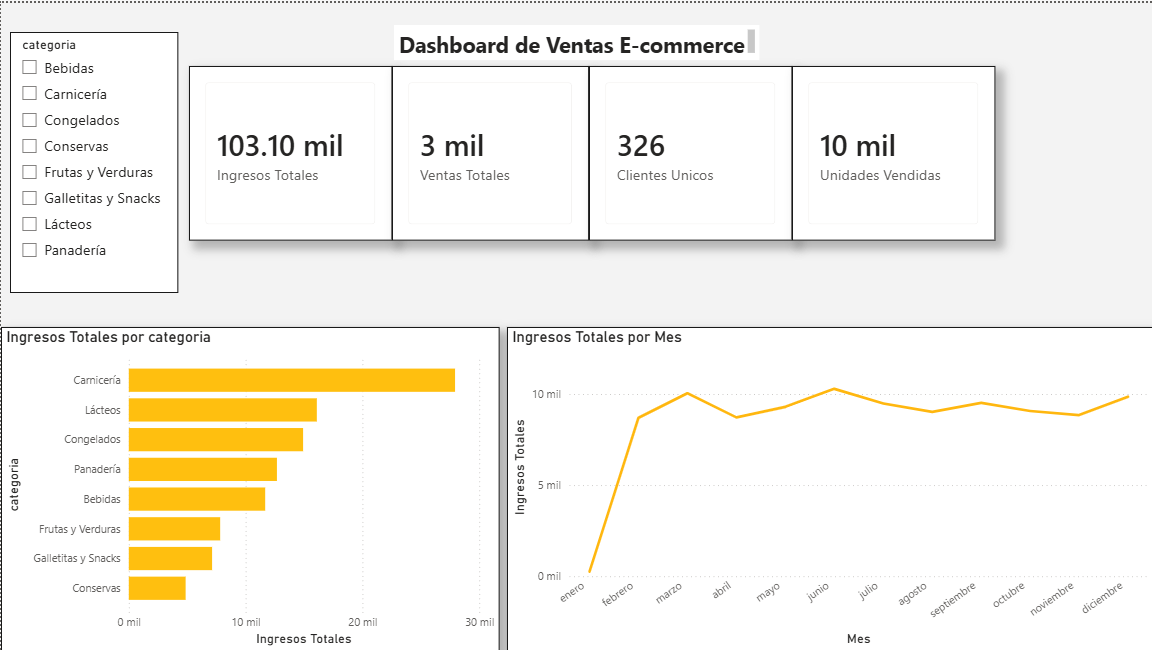

Layout of this report page (visuals, bound fields, positions):
{"tool":"powerbi","page":{"name":"Página 1","canvas":[1280,720],"ordinal":0},"visuals":[{"type":"cardVisual","fields":{"Data":["KPI.Ingresos Totales"]},"box":[208.9,70,225.6,194.4],"z":0},{"type":"cardVisual","fields":{"Data":["KPI.Total Ventas"]},"box":[434.4,70,218.9,194.4],"z":1000},{"type":"cardVisual","fields":{"Data":["KPI.Total Clientes"]},"box":[653.3,70,225.6,194.4],"z":2000},{"type":"barChart","fields":{"Category":["public categorias_productos.categoria"],"Y":["KPI.Ingresos Totales"]},"box":[0,360,554.4,360],"z":3000},{"type":"lineChart","fields":{"Category":["public ventas.fecha.Variación.Jerarquía de fechas.Mes"],"Y":["KPI.Ingresos Totales"]},"box":[562.2,360,717.8,360],"z":4000},{"type":"textbox","box":[436.7,24.4,405.6,38.9],"z":5000},{"type":"cardVisual","fields":{"Data":["KPI.Unidades Vendidas"]},"box":[878.9,70,225.6,194.4],"z":6000},{"type":"slicer","fields":{"Values":["public categorias_productos.categoria"]},"box":[10,32.2,186.7,290],"z":7000}]}

Visuals, with their boxes in screenshot pixels (x1, y1, x2, y2), scaled from the page's 1280x720 canvas onto the 1152x650 screenshot:
cardVisual - KPI.Ingresos Totales: select_region(188, 63, 391, 239)
cardVisual - KPI.Total Ventas: select_region(391, 63, 588, 239)
cardVisual - KPI.Total Clientes: select_region(588, 63, 791, 239)
barChart - public categorias_productos.categoria x KPI.Ingresos Totales: select_region(0, 325, 499, 649)
lineChart - public ventas.fecha.Variación.Jerarquía de fechas.Mes x KPI.Ingresos Totales: select_region(506, 325, 1151, 649)
textbox: select_region(393, 22, 758, 57)
cardVisual - KPI.Unidades Vendidas: select_region(791, 63, 994, 239)
slicer - public categorias_productos.categoria: select_region(9, 29, 177, 291)
